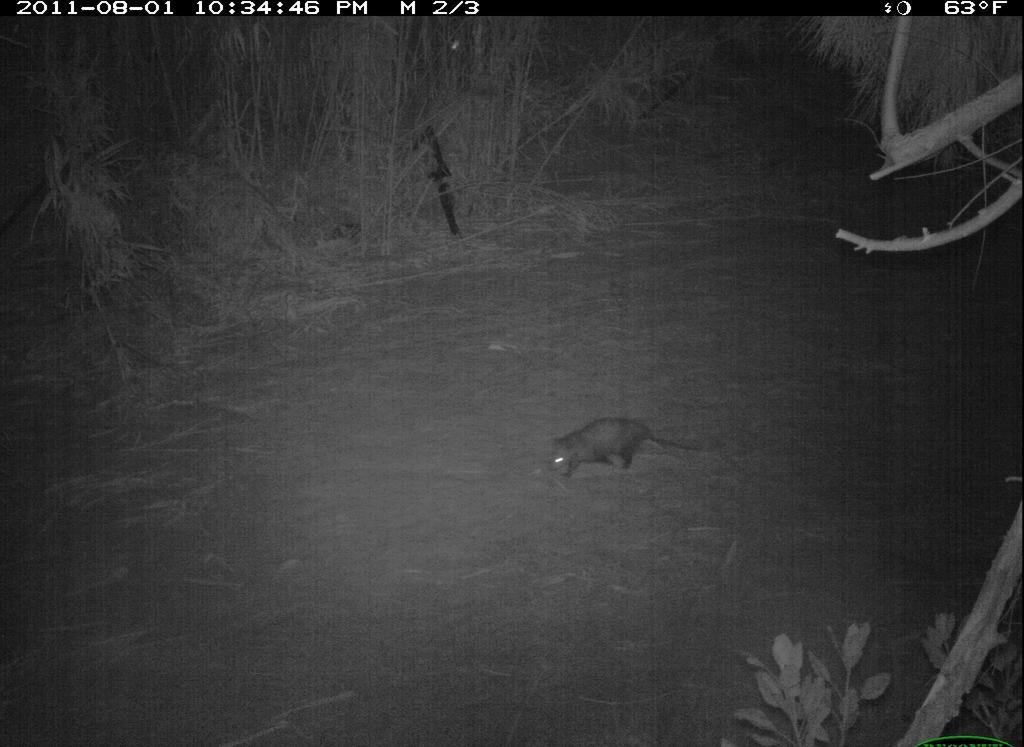opossum: (530, 397, 702, 497)
